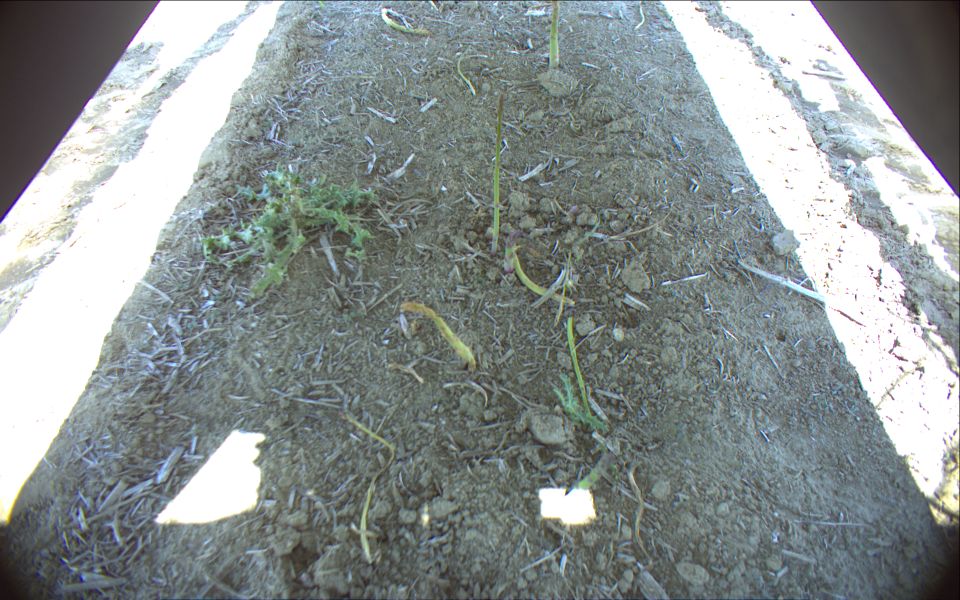aspa: (395, 298, 479, 373), (492, 92, 507, 257), (547, 1, 563, 75)
